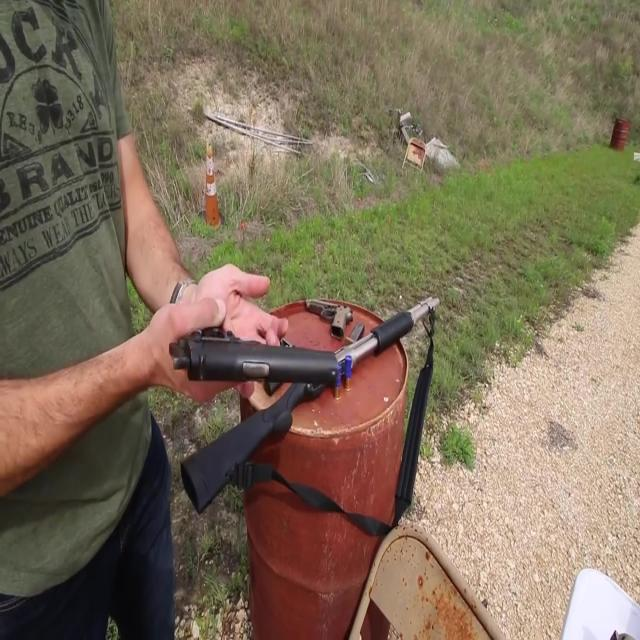Weapon: (150, 220, 467, 543)
